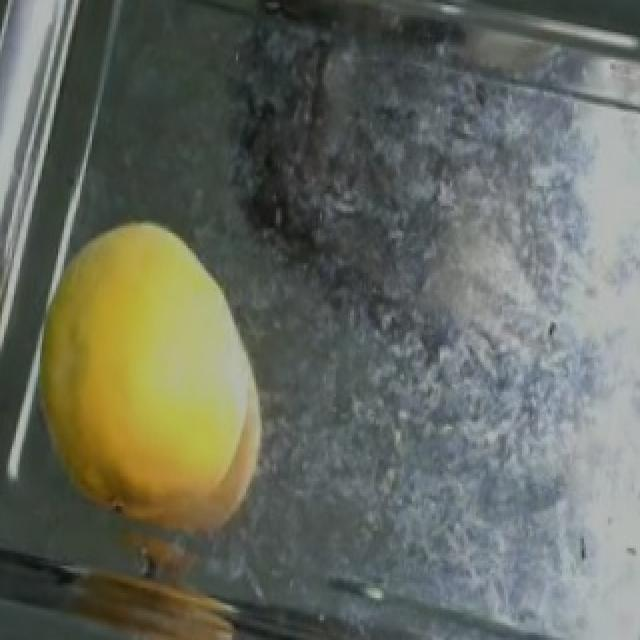fruit: (0, 189, 322, 563)
